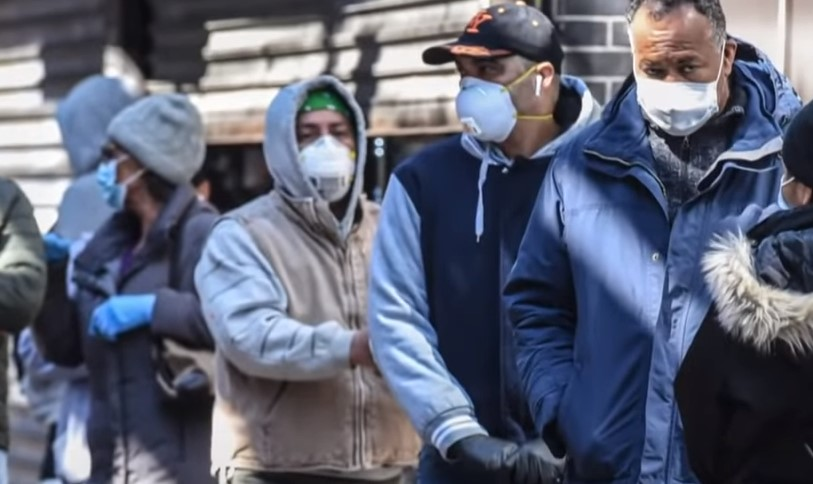face_with_mask: (624, 5, 740, 142), (454, 7, 559, 149), (259, 78, 369, 206), (88, 91, 204, 211), (777, 98, 811, 214)
